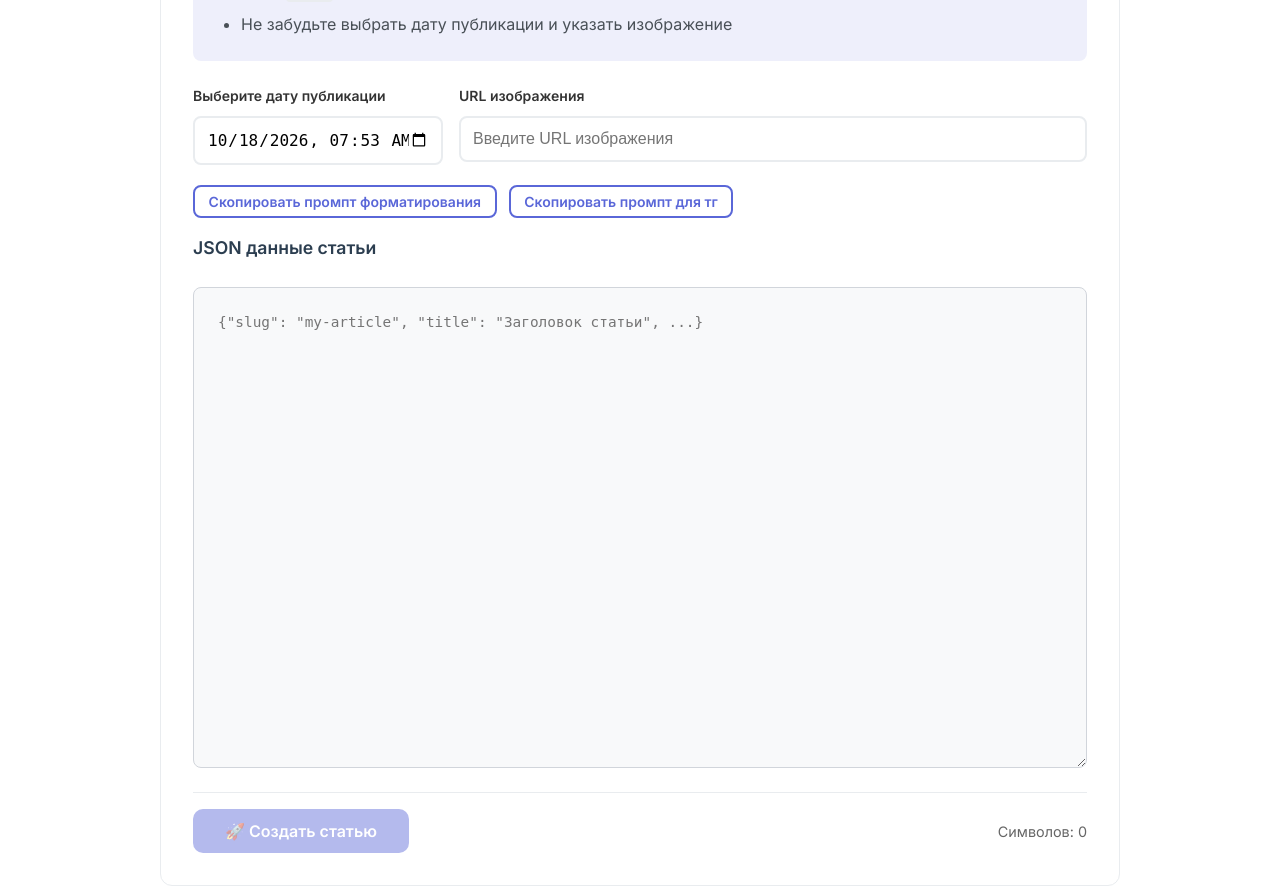
it: CreateArticlePage › shows why the article was rejected and keeps the JSON
This screenshot has width=1280, height=886.
(page scrolled)
Step 1. Click the text box labelled "JSON данные статьи" → (640, 527), box [193,287,1087,768]
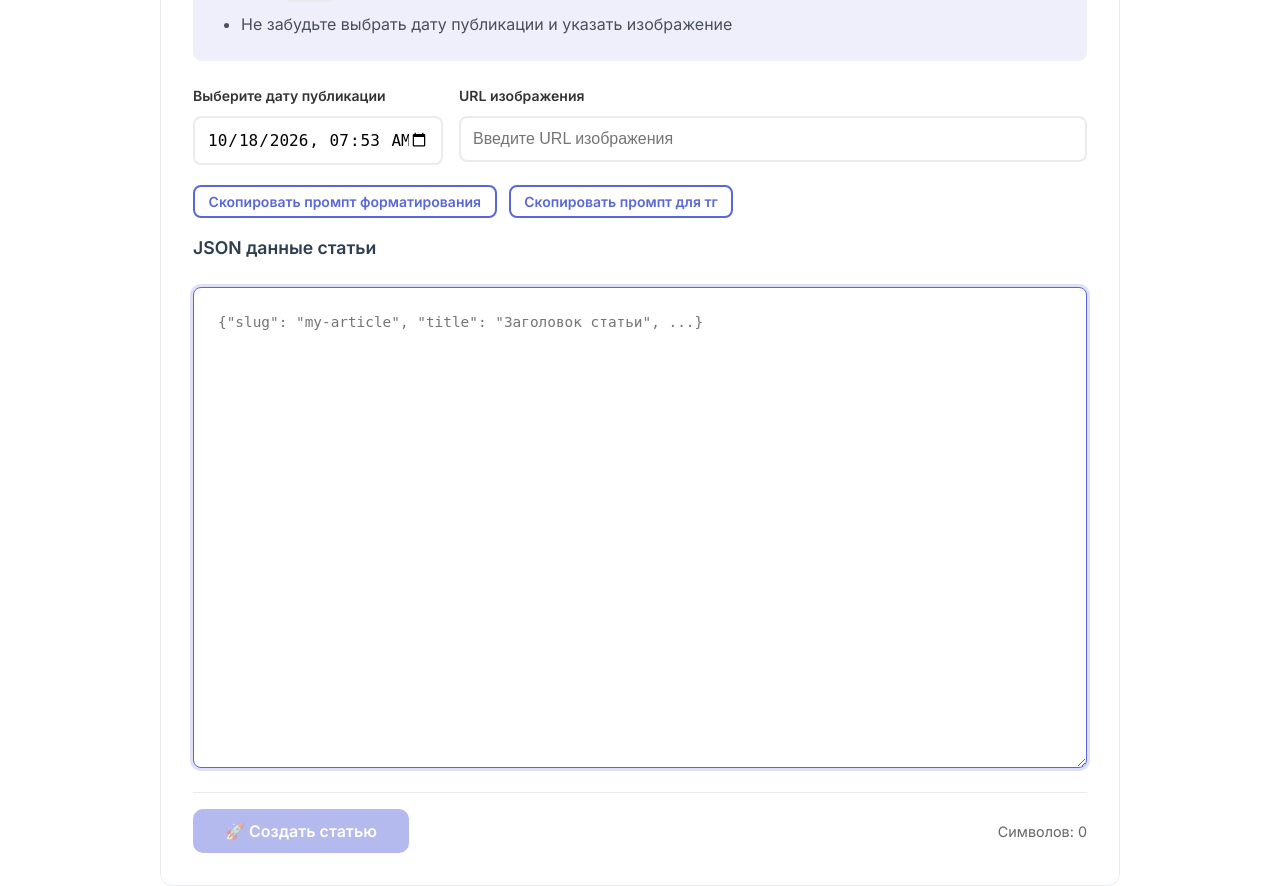
Step 2. Type keys "{\"slug\":\"new\"}"
(page scrolled)
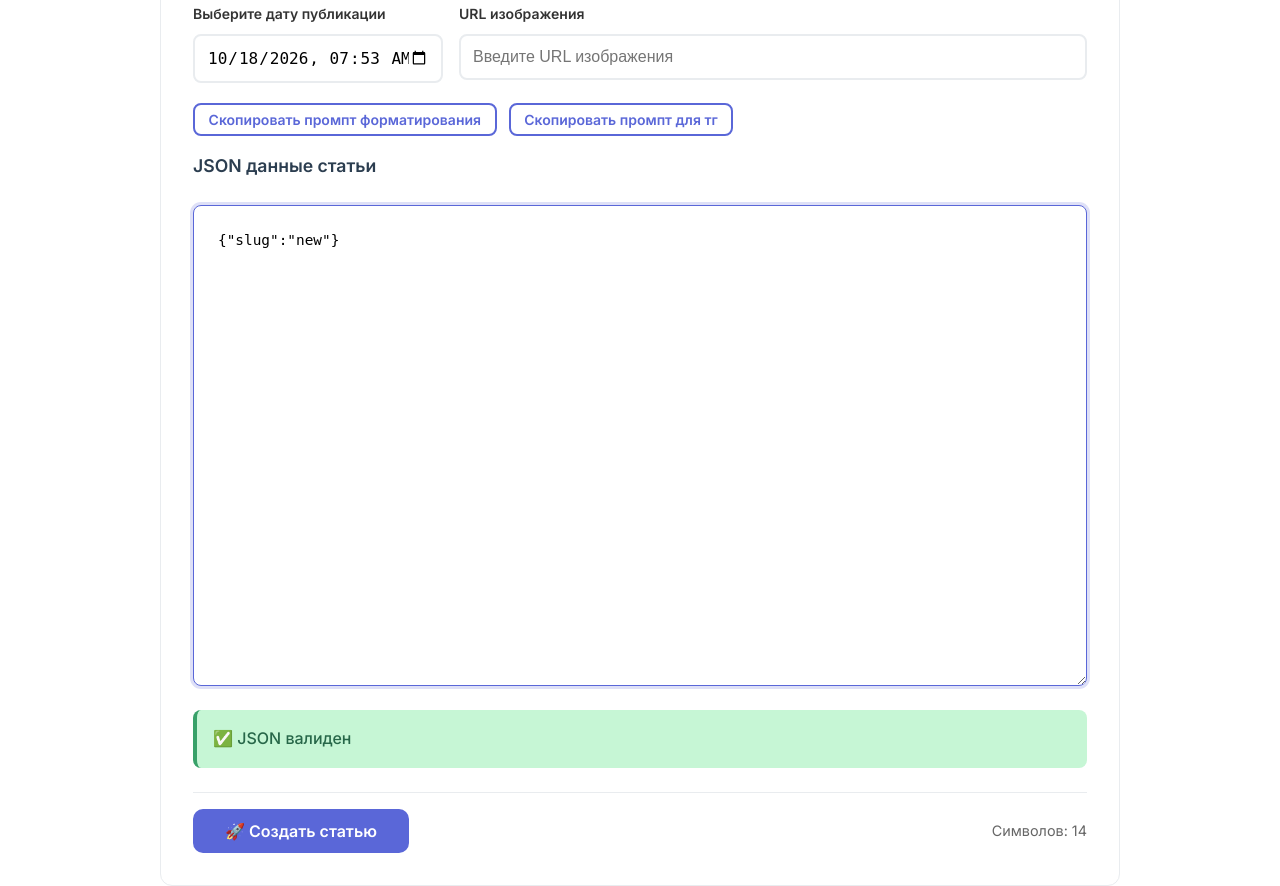
Step 3. Click the button "🚀 Создать статью" → (301, 831), box [193,809,409,853]
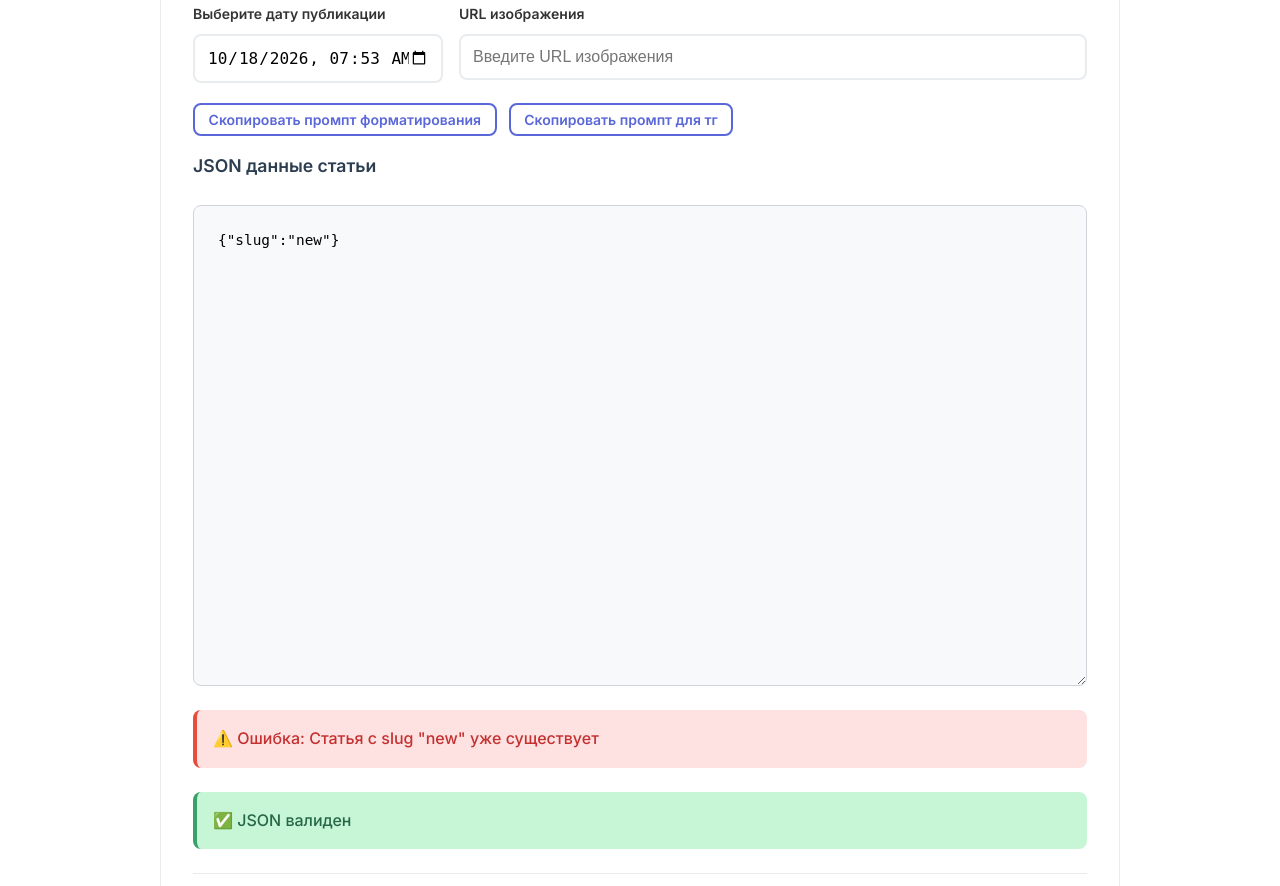
Check: the text box labelled "JSON данные статьи" holds "{\"slug\":\"new\"}", box [193,205,1087,686]
Check: the message shows "уже существует", box [237,728,599,748]
